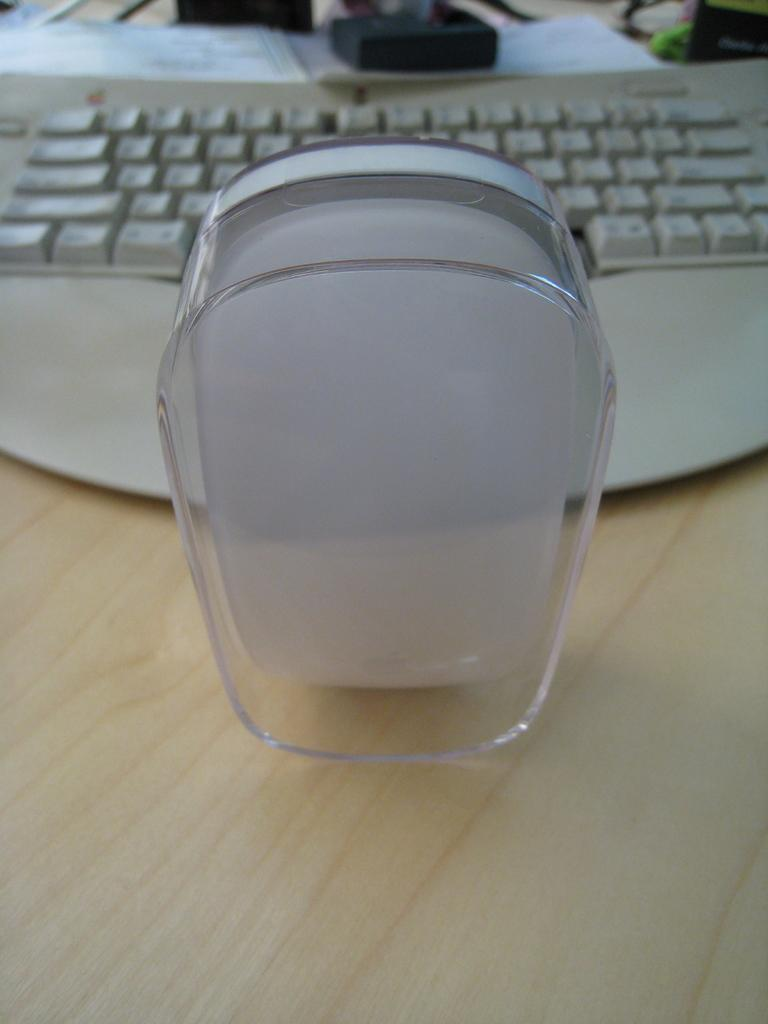Computer-keyboard: (0, 56, 767, 511)
